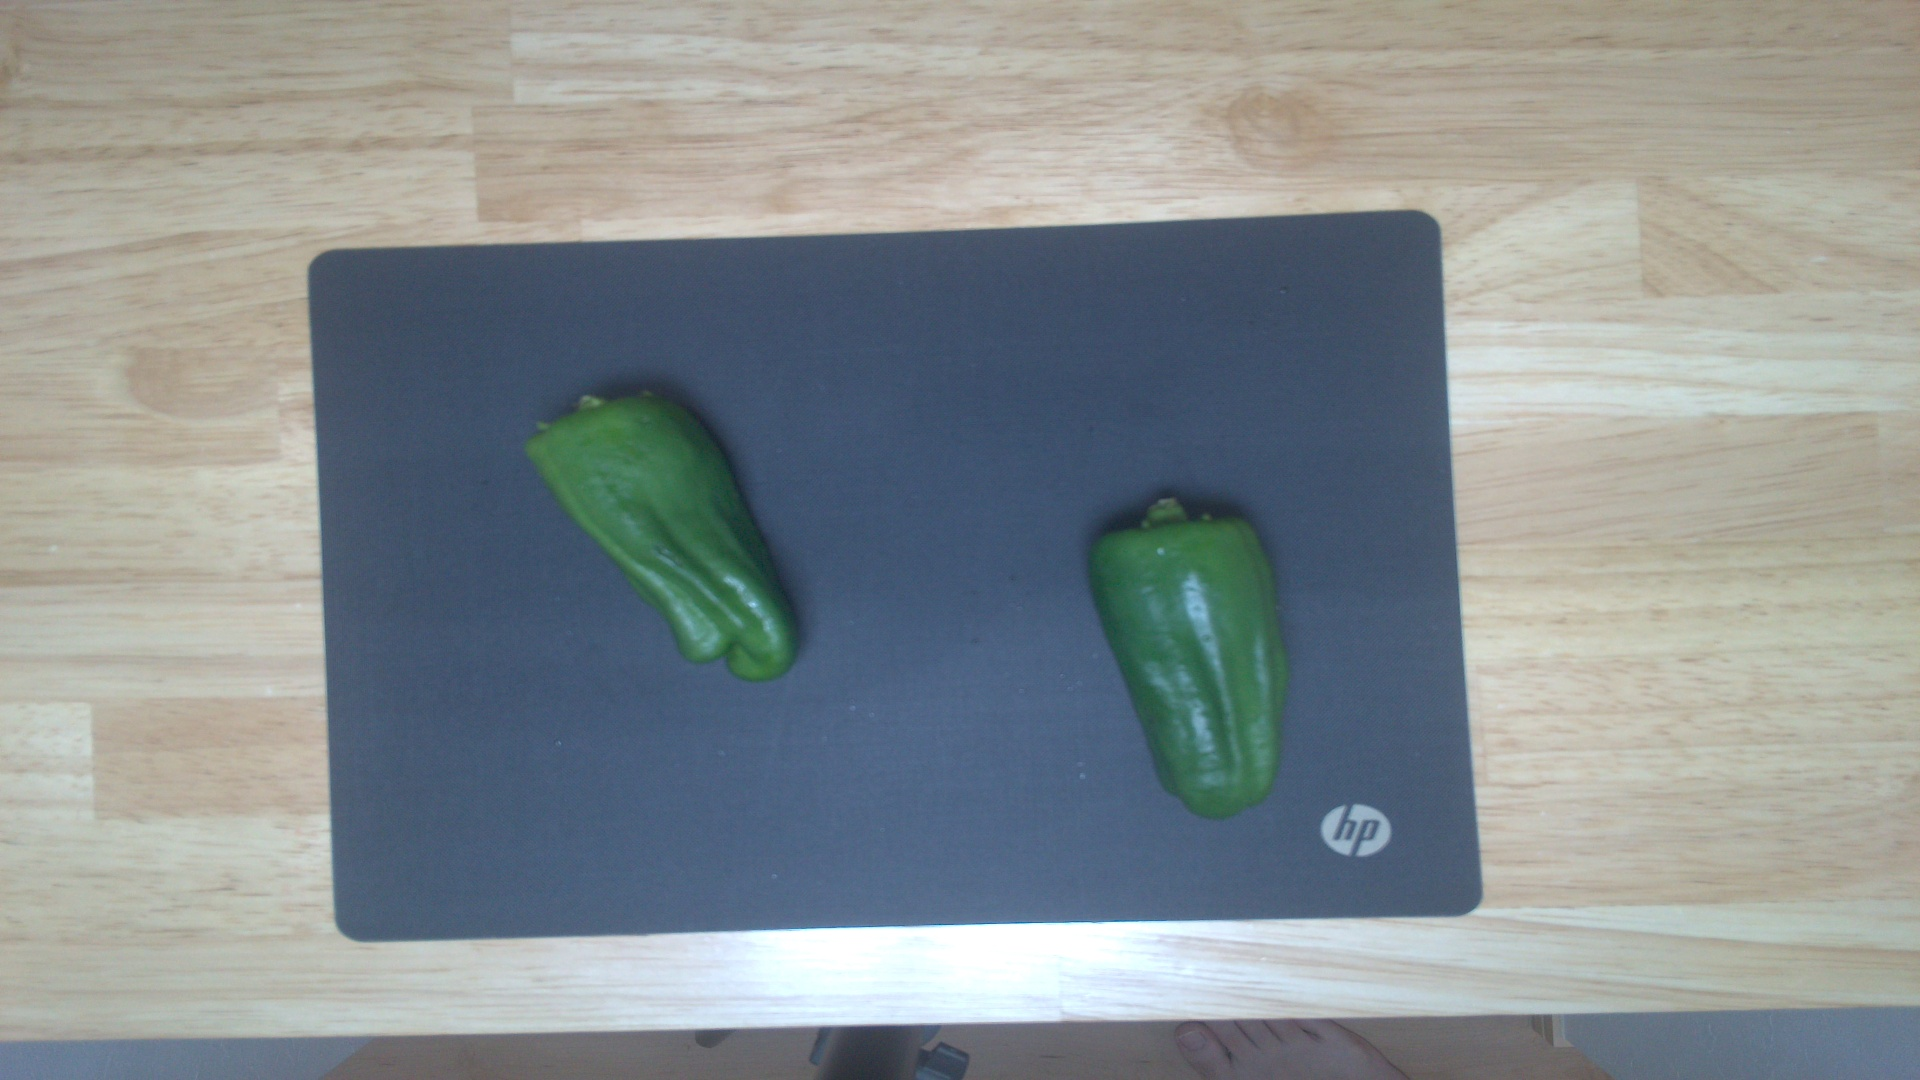Piman: (525, 380, 802, 688), (1083, 489, 1299, 819)
